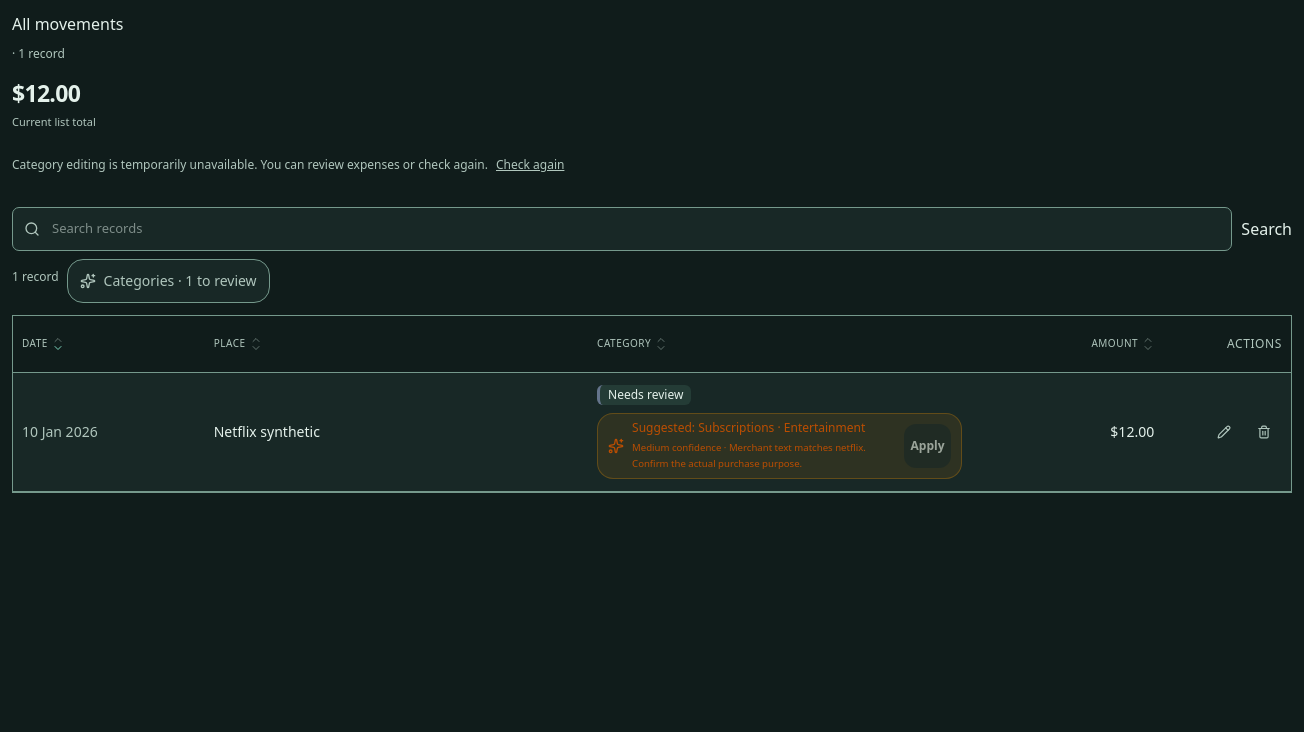
it: blocks saves against old API and exposes a local capability retry
Click the button named "Edit Netflix synthetic" at (1224, 432), box [1206,410,1242,454]
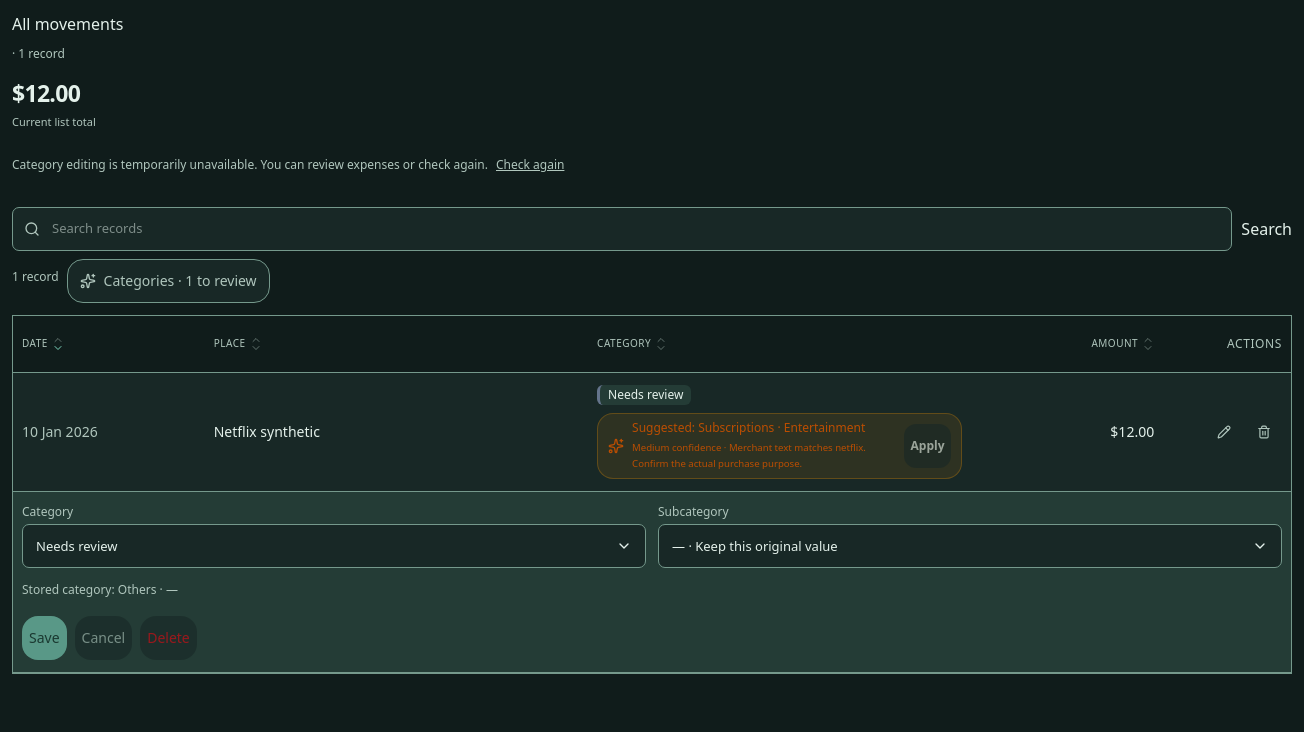
Expected: the text "Category editing is temporarily unavailable. You can review expenses or check again." is shown, [12,156,488,173]
Now the button "Save" is disabled, box [22,616,67,660]
